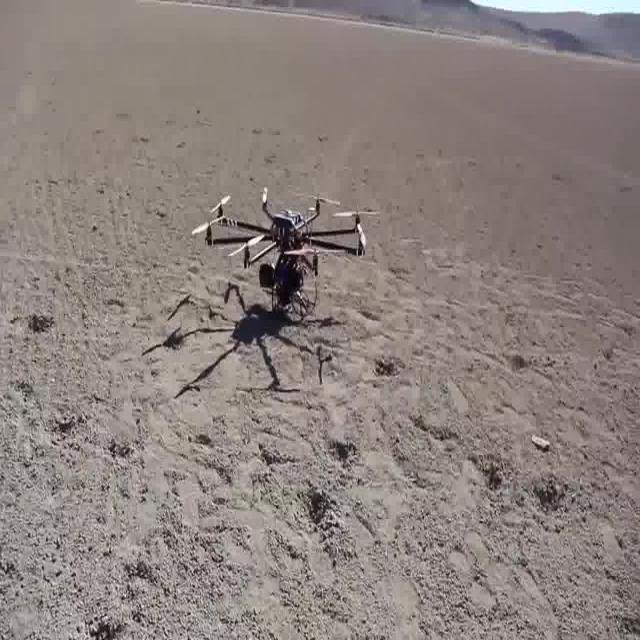drone: (185, 181, 388, 376)
